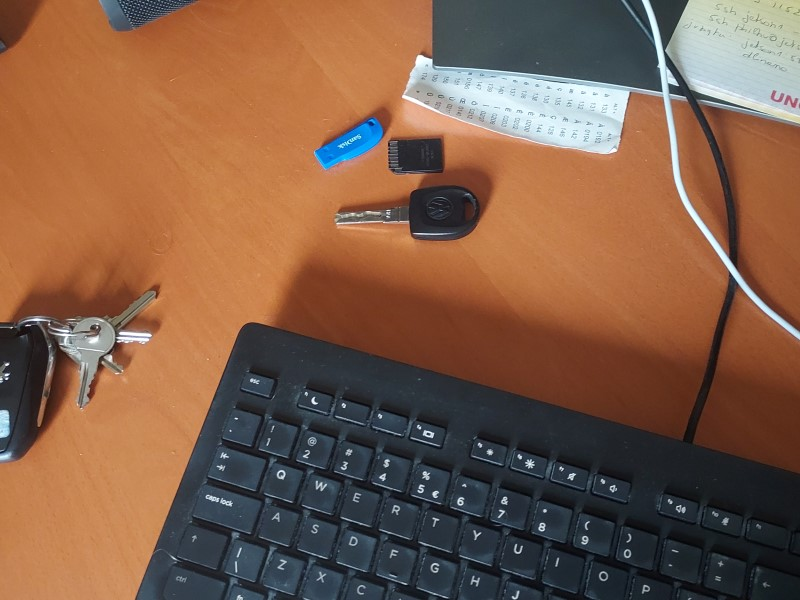carkey: (0, 303, 56, 459)
key: (329, 181, 485, 246), (66, 274, 155, 355), (61, 307, 117, 406)
